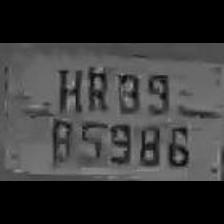3: (104, 119, 132, 167)
5: (74, 117, 104, 163)
6: (162, 120, 192, 170)
8: (112, 66, 142, 114), (134, 119, 160, 167)
9: (142, 68, 172, 114)
B: (46, 114, 74, 166)
H: (52, 62, 82, 114)
R: (82, 62, 112, 112)
